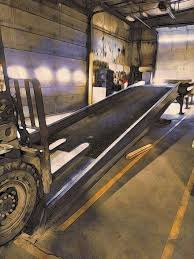Yard Ramp: (24, 76, 179, 230)
